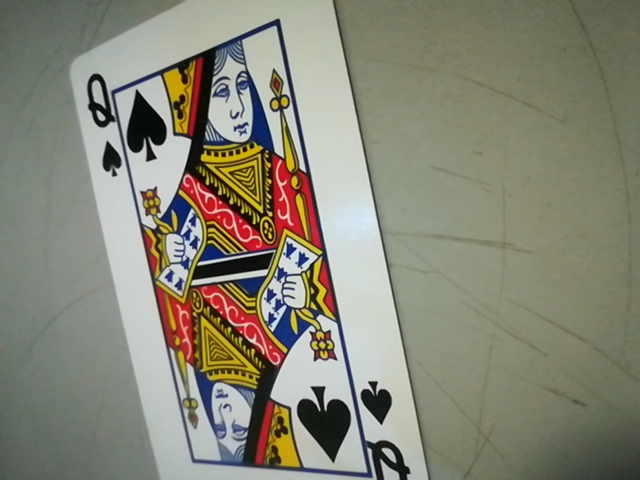ht q: (354, 377, 423, 480)
